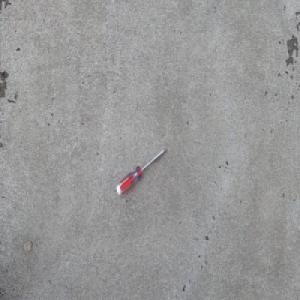Screwdriver: (116, 147, 168, 197)
